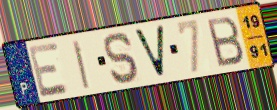7: (175, 18, 202, 74)
B: (204, 14, 246, 69)
E: (26, 40, 71, 100)
I: (70, 38, 91, 91)
S: (103, 30, 142, 85)
V: (131, 23, 167, 80)
